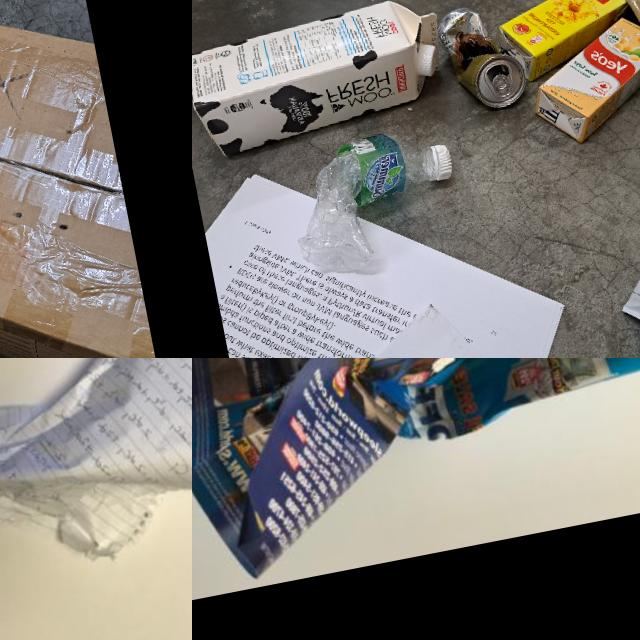aba de lata: (492, 73, 512, 101)
caixinha: (192, 0, 455, 163), (519, 12, 640, 149), (489, 0, 637, 84)
garrafa plástica: (282, 127, 447, 279)
lata: (434, 0, 530, 117)
papel: (192, 358, 640, 587), (196, 124, 583, 358), (0, 358, 192, 598), (228, 284, 594, 358)
papelão: (0, 0, 169, 358), (0, 0, 70, 358), (543, 0, 640, 117)
tampa plástica: (429, 143, 455, 182), (418, 44, 443, 78)
